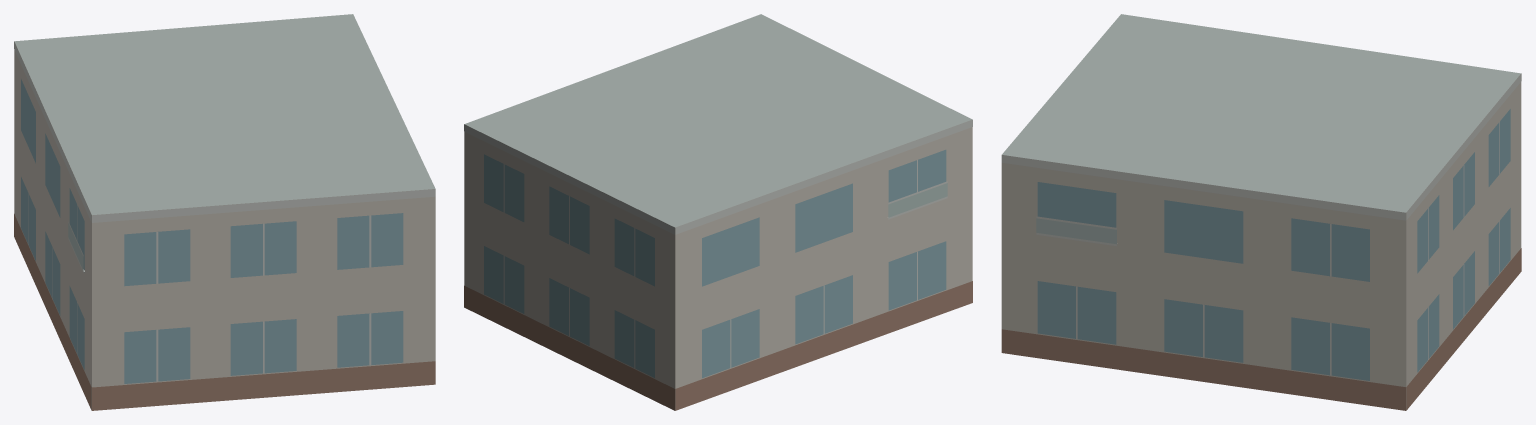
Rendered from survey-upis-32674748.glb.
The picture shows the model from 3 angles, left to right: view 1: azimuth 30°, elevation 25°; view 2: azimuth 150°, elevation 25°; view 3: azimuth 270°, elevation 25°; orthographic projection. The views are drawn at different scales.
Parts seen in each view (by area): view 1: survey-upis-32674748.tmp; view 2: survey-upis-32674748.tmp; view 3: survey-upis-32674748.tmp.
Part boxes in pixels (x1,y1,x2,y2): survey-upis-32674748.tmp: [14, 14, 435, 410]; survey-upis-32674748.tmp: [464, 14, 972, 410]; survey-upis-32674748.tmp: [1001, 14, 1521, 410].
Size of the model in its own units: 13.13 by 6.1 by 14.51.
